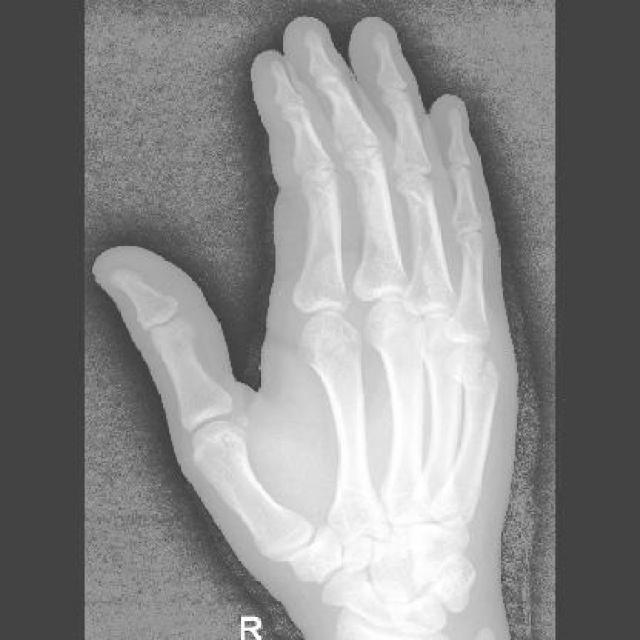Fracture: (449, 345, 500, 398)
